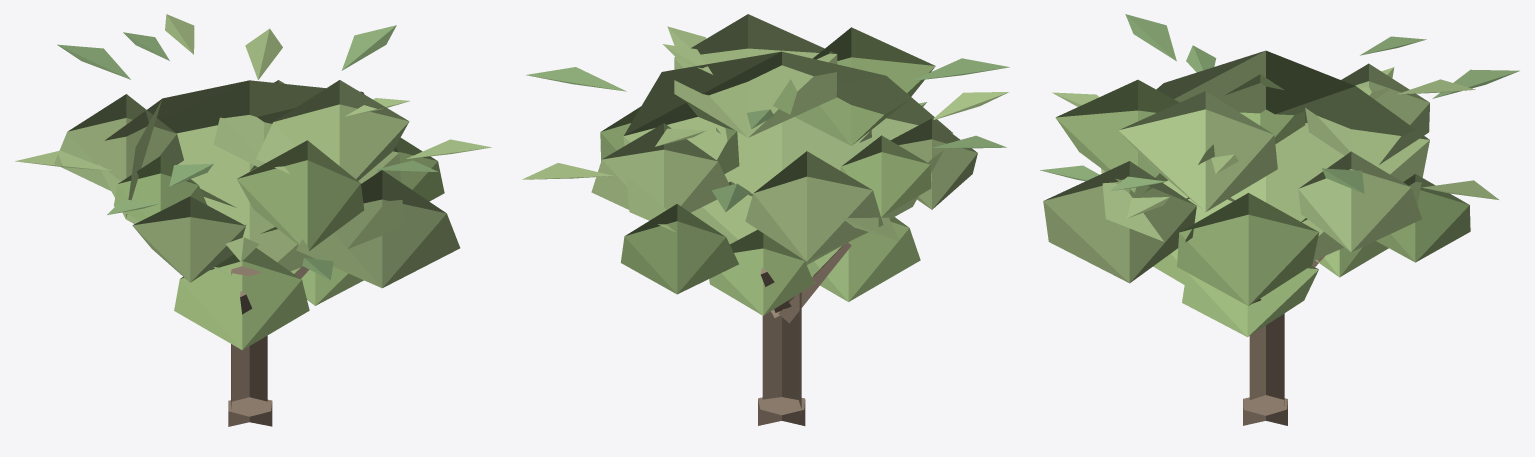
The model's file is shu.mangguo@subadult__spring.glb.
The picture shows the model from 3 angles, left to right: view 1: azimuth 30°, elevation 25°; view 2: azimuth 150°, elevation 25°; view 3: azimuth 270°, elevation 25°; orthographic projection. The views are drawn at different scales.
Parts seen in each view (by area): view 1: shu.mangguo@subadult__spring; view 2: shu.mangguo@subadult__spring; view 3: shu.mangguo@subadult__spring.
Part boxes in pixels (left/top/right/bottom): shu.mangguo@subadult__spring: left=15, top=14, right=491, bottom=426; shu.mangguo@subadult__spring: left=522, top=14, right=1009, bottom=425; shu.mangguo@subadult__spring: left=1040, top=14, right=1519, bottom=425.
Bounding box in the file's own units: 6.83 × 6.27 × 7.37.
